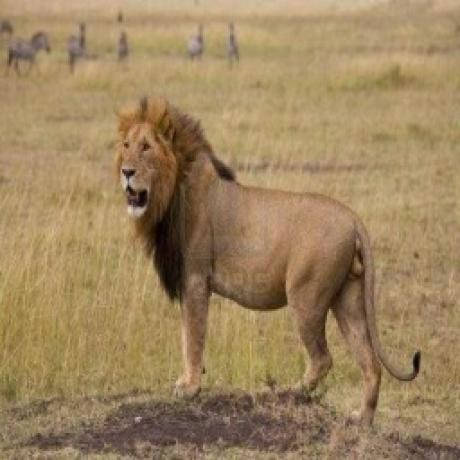Lion: (114, 91, 425, 413)
